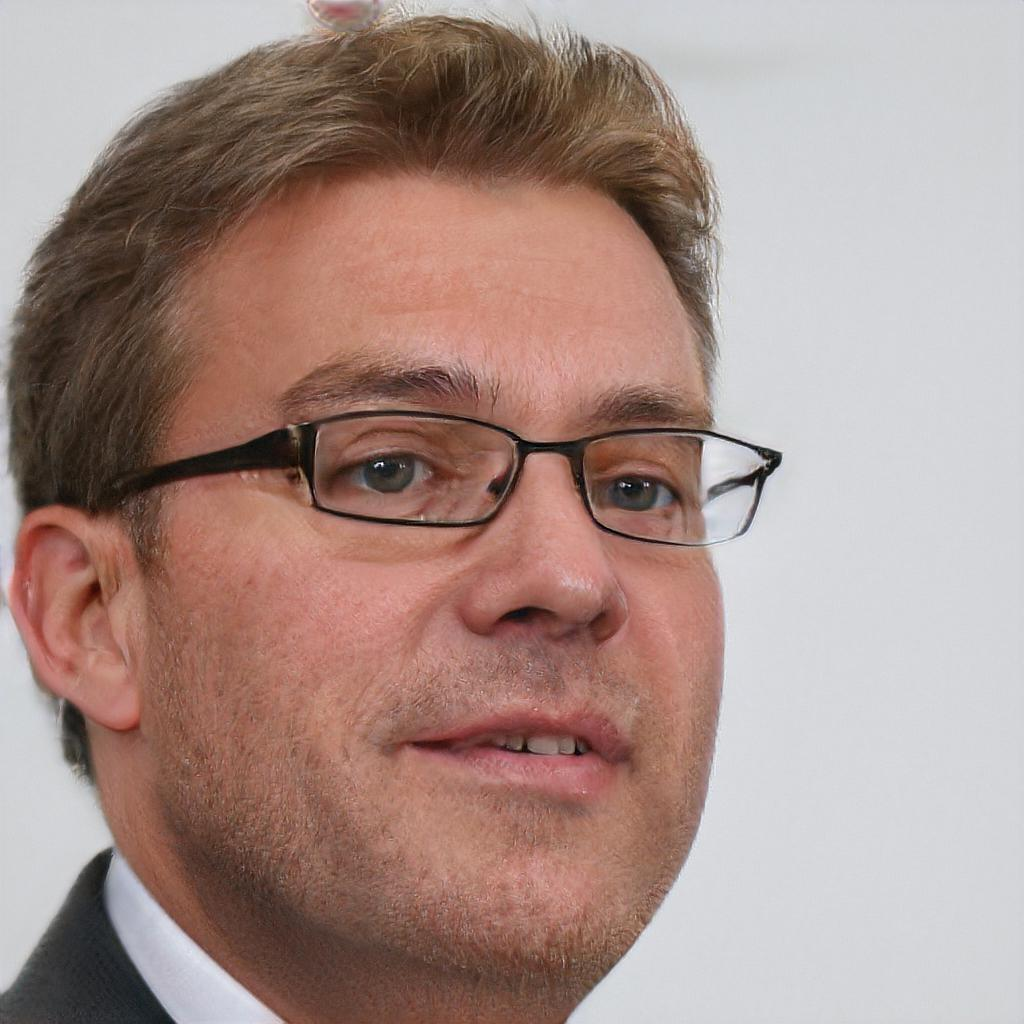face: (142, 177, 725, 971)
